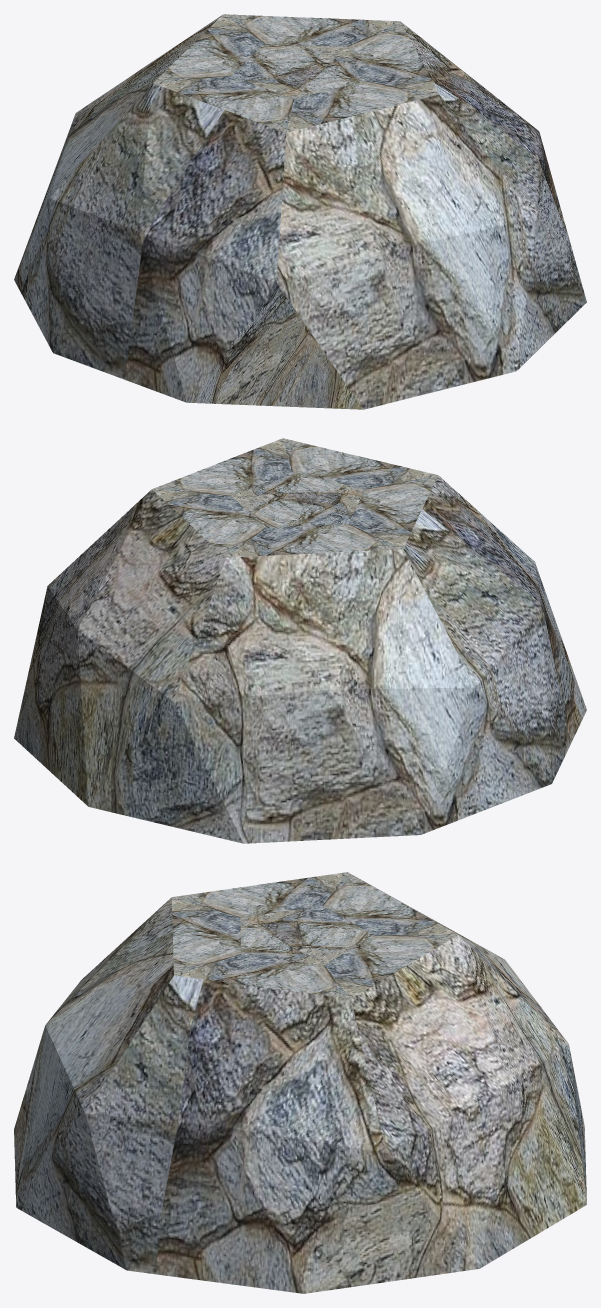
The model's file is Rock.fbx.
The picture shows the model from 3 angles, top to bottom: view 1: azimuth 30°, elevation 25°; view 2: azimuth 150°, elevation 25°; view 3: azimuth 270°, elevation 25°; orthographic projection. The views are drawn at different scales.
Parts seen in each view (by area): view 1: BASE TORRE; view 2: BASE TORRE; view 3: BASE TORRE.
Boxes of the visible parts, x1=… form: BASE TORRE: x1=14, y1=14, x2=586, y2=409; BASE TORRE: x1=14, y1=438, x2=586, y2=843; BASE TORRE: x1=14, y1=872, x2=586, y2=1293.
Bounding box in the file's own units: 95.46 × 40.6 × 91.13.
1 material, 1 textured.
